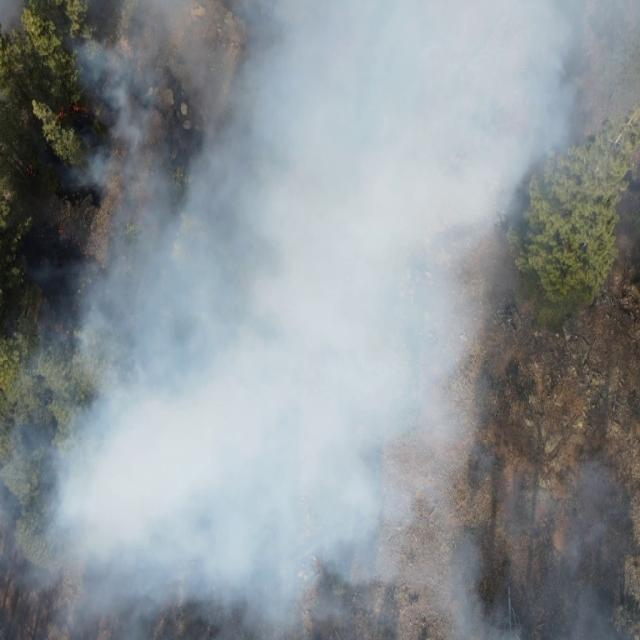fire: (70, 102, 86, 112), (26, 161, 36, 175), (56, 110, 67, 119)
smoke: (64, 0, 640, 330), (65, 330, 498, 640), (497, 451, 640, 640), (0, 242, 64, 640), (1, 0, 30, 42)
